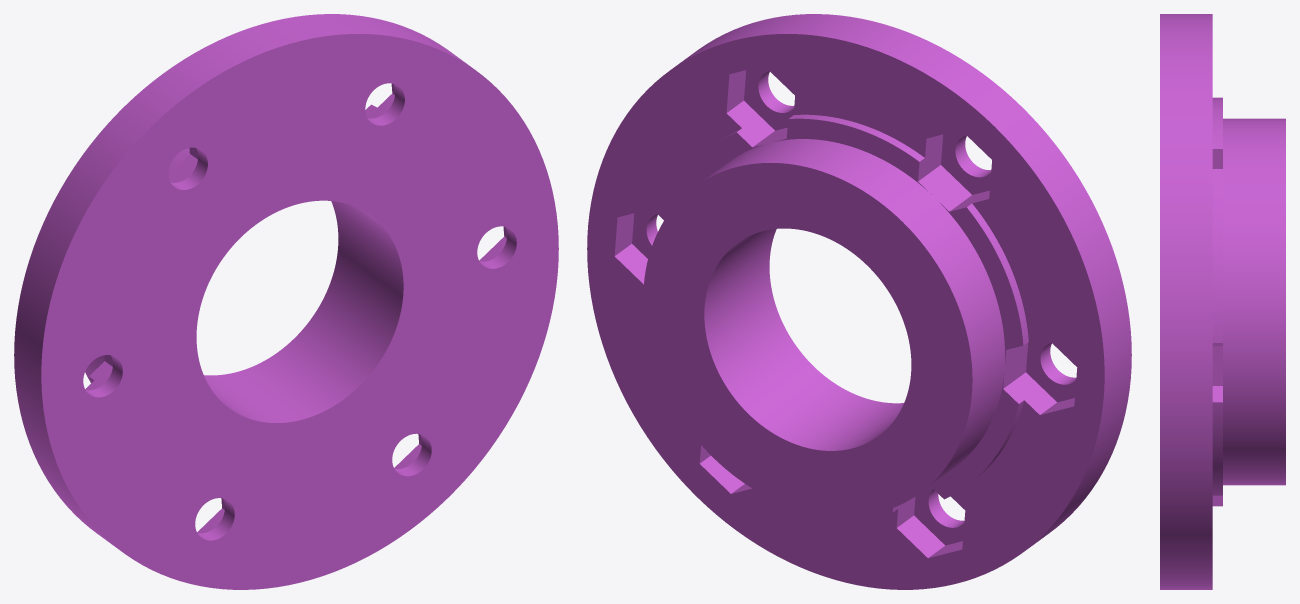
Rendered from inner_output_drive.gltf.
3 views of the same model, side by side, from view 1: azimuth 30°, elevation 25°; view 2: azimuth 150°, elevation 25°; view 3: azimuth 270°, elevation 25° (orthographic). The views are drawn at different scales.
Parts seen in each view (by area): view 1: mesh161, mesh160, mesh142; view 2: mesh159, mesh141, mesh160, mesh142, mesh140, mesh139, mesh129, mesh151, mesh119, mesh134, mesh148, mesh136 (+10 smaller); view 3: mesh160, mesh140, mesh118, mesh106, mesh128, mesh116, mesh126, mesh127.
Part boxes in pixels (left/top/right/bottom): mesh161: left=41, top=34, right=558, bottom=589; mesh160: left=14, top=14, right=471, bottom=551; mesh142: left=204, top=201, right=403, bottom=422; mesh159: left=587, top=34, right=1104, bottom=589; mesh141: left=643, top=163, right=972, bottom=516; mesh160: left=674, top=14, right=1131, bottom=551; mesh142: left=704, top=229, right=903, bottom=450; mesh140: left=699, top=139, right=1004, bottom=489; mesh139: left=940, top=203, right=1023, bottom=366; mesh129: left=773, top=118, right=931, bottom=194; mesh151: left=930, top=374, right=1018, bottom=499; mesh119: left=664, top=132, right=761, bottom=220; mesh134: left=941, top=130, right=991, bottom=194; mesh148: left=1026, top=337, right=1076, bottom=402; mesh136: left=918, top=165, right=971, bottom=211; mesh160: left=1160, top=14, right=1212, bottom=589; mesh140: left=1223, top=118, right=1285, bottom=485; mesh118: left=1212, top=198, right=1222, bottom=342; mesh106: left=1212, top=402, right=1222, bottom=495; mesh128: left=1212, top=97, right=1222, bottom=148; mesh116: left=1212, top=346, right=1222, bottom=385; mesh126: left=1212, top=169, right=1222, bottom=198; mesh127: left=1212, top=149, right=1222, bottom=168.
Size of the model in its own units: 0.055 by 0.055 by 0.012.
